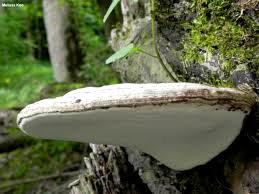Ganoderma - Fruit Body: (17, 83, 255, 173)
